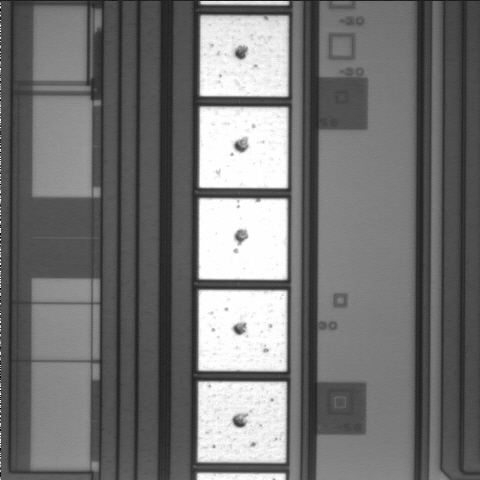pad: (199, 198, 288, 280), (199, 107, 288, 188), (198, 290, 287, 371), (198, 382, 287, 463), (200, 16, 288, 97)
